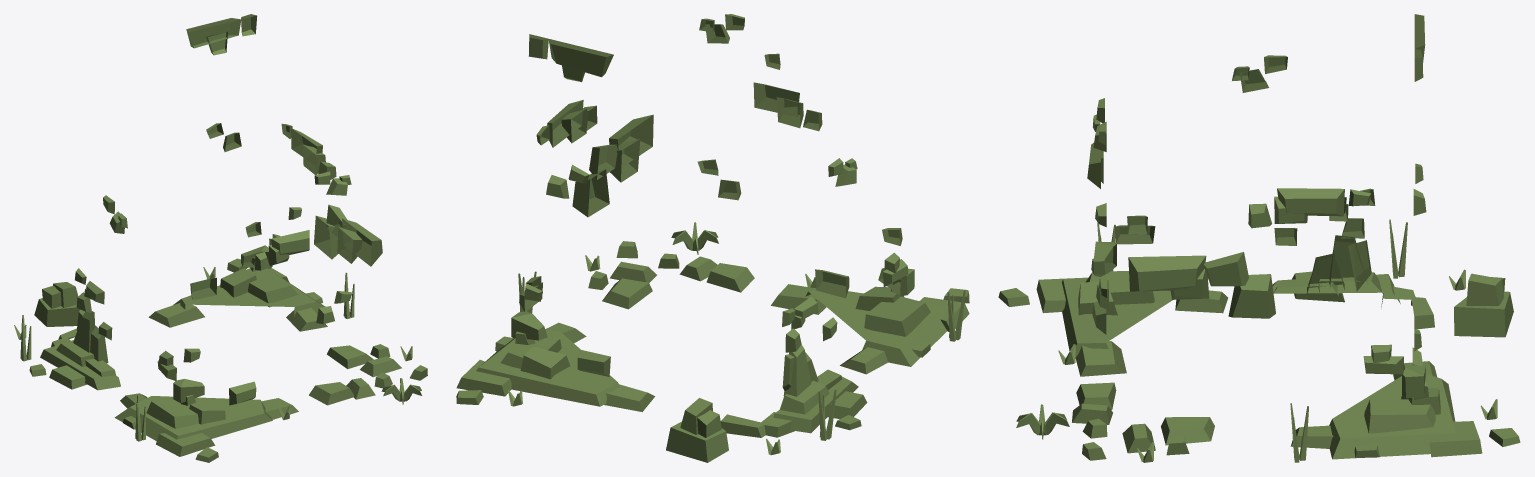
File: SA_Bld_Apartment_Growth_01.gltf
The picture shows the model from 3 angles, left to right: view 1: azimuth 30°, elevation 25°; view 2: azimuth 150°, elevation 25°; view 3: azimuth 270°, elevation 25°; orthographic projection. The views are drawn at different scales.
Parts seen in each view (by area): view 1: SA_Bld_Apartment_Growth_01; view 2: SA_Bld_Apartment_Growth_01; view 3: SA_Bld_Apartment_Growth_01.
Boxes of the visible parts, x1=… form: SA_Bld_Apartment_Growth_01: x1=14, y1=14, x2=427, y2=462; SA_Bld_Apartment_Growth_01: x1=456, y1=14, x2=969, y2=462; SA_Bld_Apartment_Growth_01: x1=998, y1=14, x2=1520, y2=462.
Bounding box in the file's own units: 18.52 × 16.52 × 20.88.
1 material, 1 textured.
